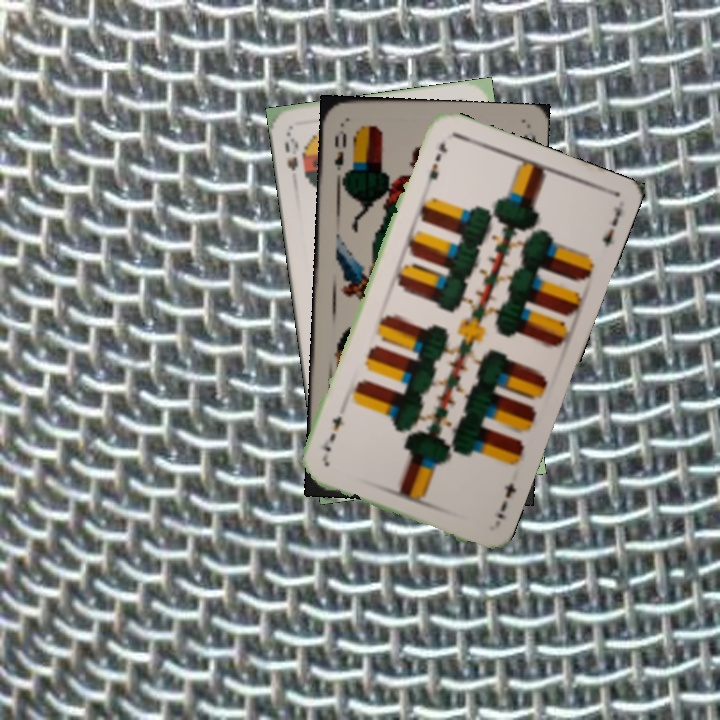E7: (420, 138, 451, 191), (493, 479, 519, 522)
EO: (330, 126, 352, 180)
SO: (280, 130, 301, 174)
